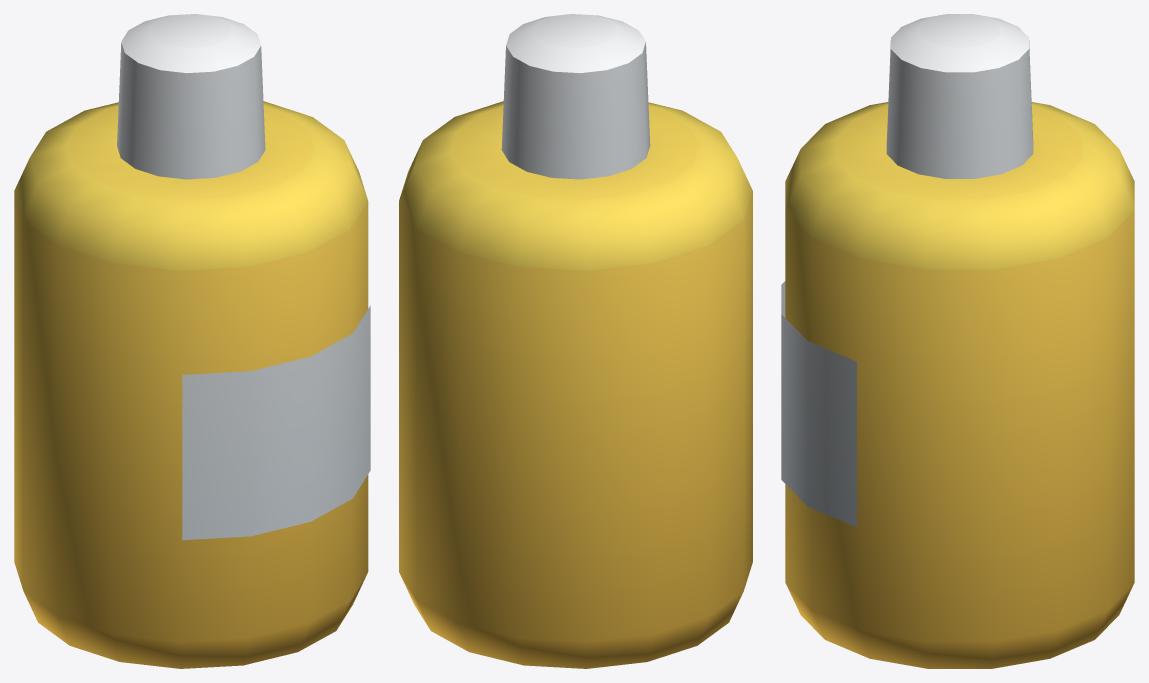
The model's file is container_bathroom_A_yellow.fbx.
The picture shows the model from 3 angles, left to right: view 1: azimuth 30°, elevation 25°; view 2: azimuth 150°, elevation 25°; view 3: azimuth 270°, elevation 25°; orthographic projection.
Visible parts, largest first — view 1: container_bathroom_A_yellow; view 2: container_bathroom_A_yellow; view 3: container_bathroom_A_yellow.
Part boxes in pixels (bbox=[...]): container_bathroom_A_yellow: bbox=[14, 14, 370, 668]; container_bathroom_A_yellow: bbox=[399, 14, 752, 668]; container_bathroom_A_yellow: bbox=[781, 14, 1134, 668].
Bounding box in the file's own units: 0.312 × 0.5778 × 0.3162.
